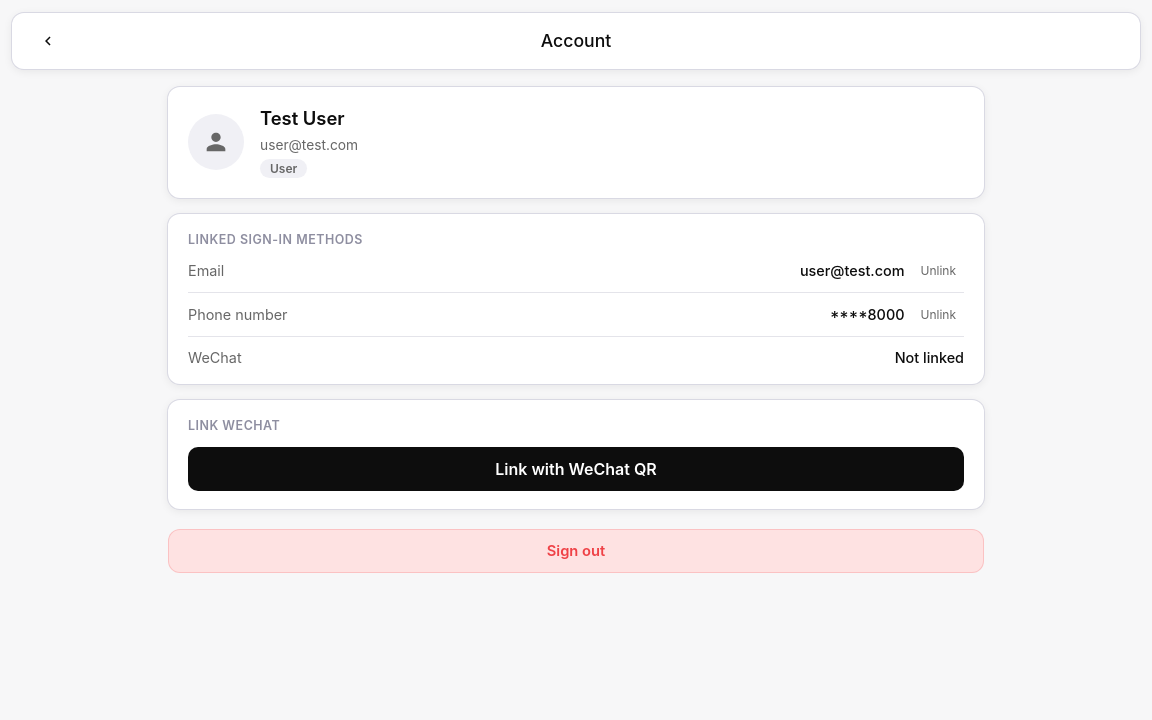
Test: ProfilePage › unbinds email after confirmation
Click the button "Unlink" in the row of "Email": (938,270) left=912, top=261, right=964, bottom=280
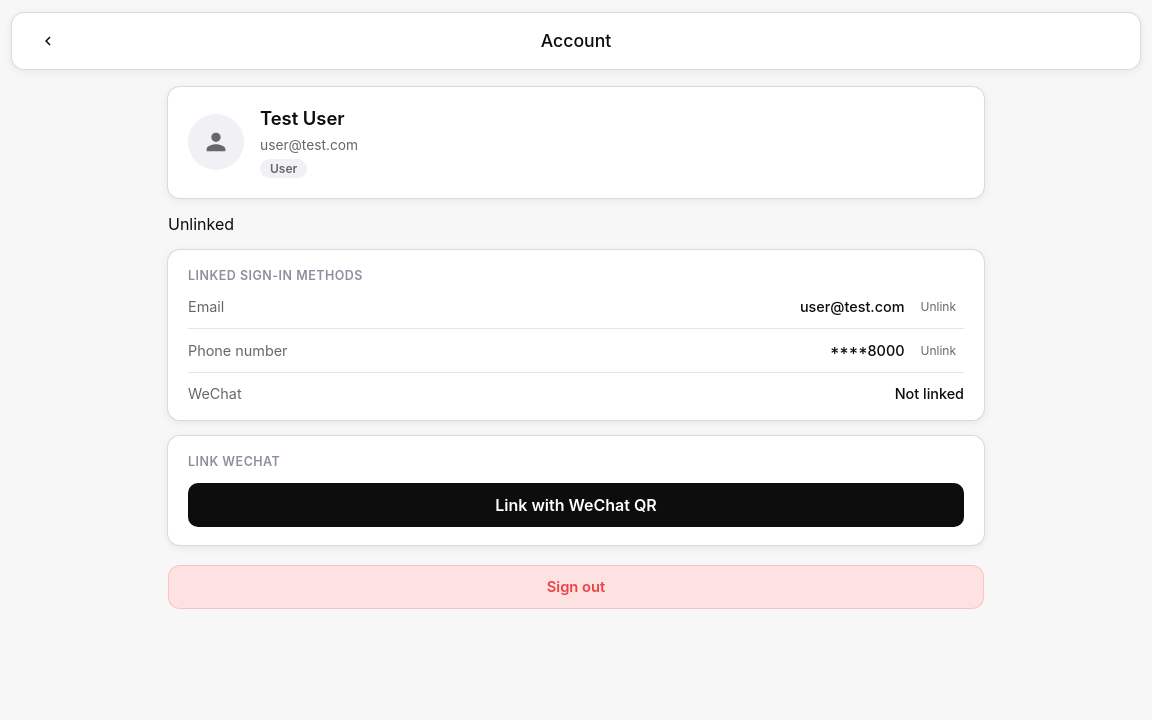
Now the text "Unlinked" is shown, box left=168, top=214, right=234, bottom=234
